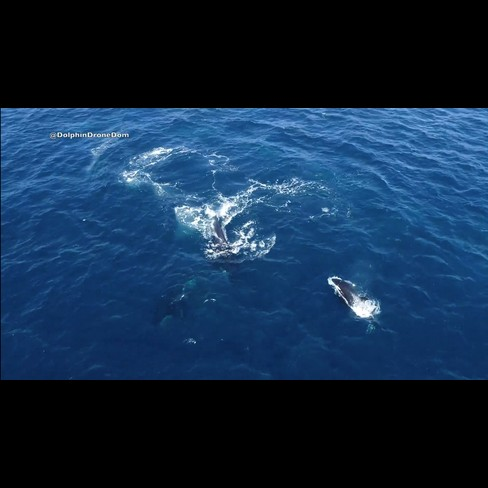orca: (324, 271, 397, 341), (195, 190, 253, 263)
